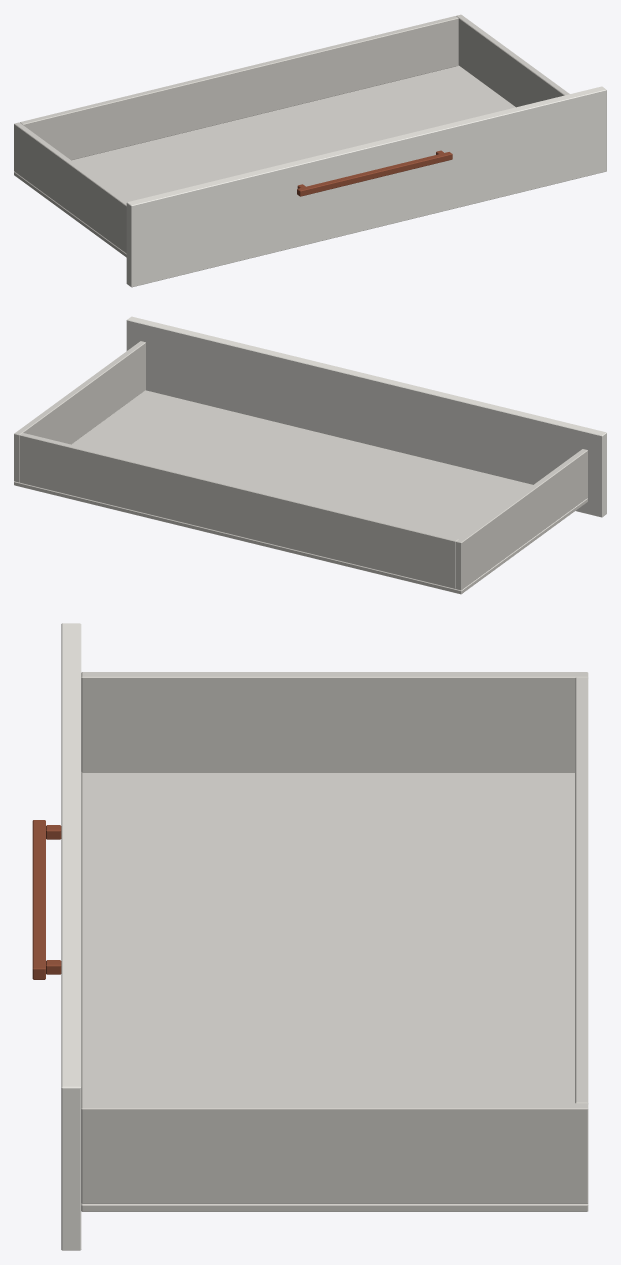
Rendered from drawer_base_cabinet_wide_top_drawer.glb.
3 renders of one model, top to bottom at view 1: azimuth 30°, elevation 25°; view 2: azimuth 150°, elevation 25°; view 3: azimuth 270°, elevation 25°, orthographic. The views are drawn at different scales.
Parts seen in each view (by area): view 1: drawer_base_cabinet_wide_top_drawer; view 2: drawer_base_cabinet_wide_top_drawer; view 3: drawer_base_cabinet_wide_top_drawer.
Boxes of the visible parts, x1=… form: drawer_base_cabinet_wide_top_drawer: x1=14, y1=14, x2=606, y2=287; drawer_base_cabinet_wide_top_drawer: x1=14, y1=316, x2=606, y2=594; drawer_base_cabinet_wide_top_drawer: x1=32, y1=623, x2=588, y2=1250.
Bounding box in the file's own units: 0.997 × 0.1642 × 0.504.
